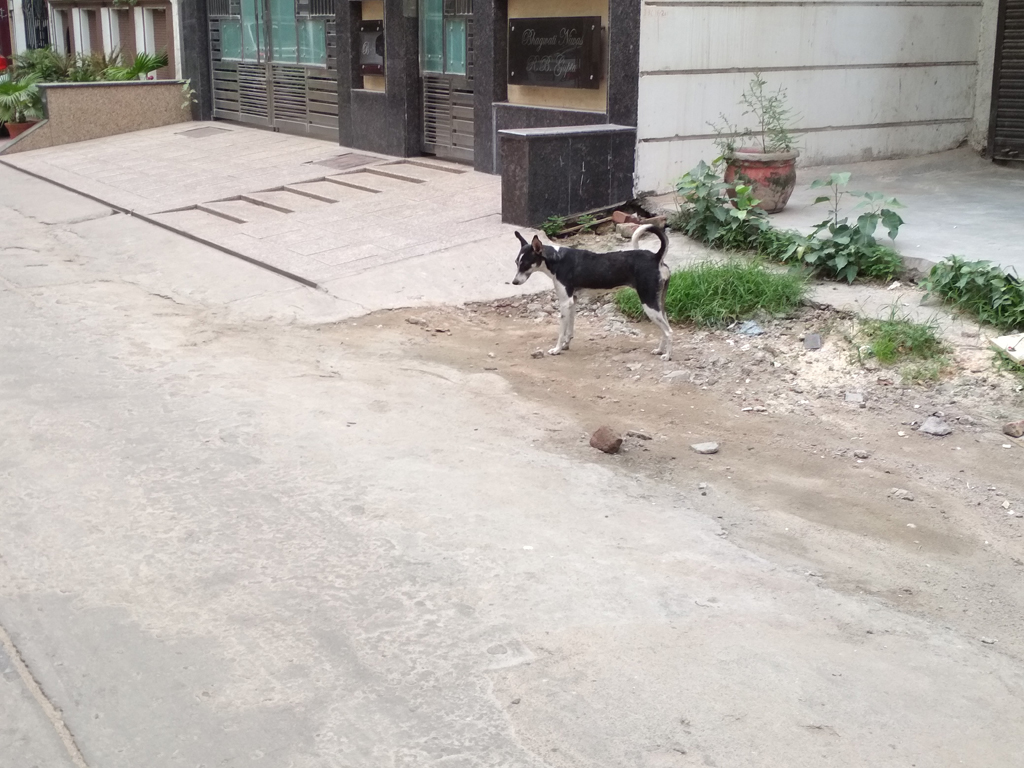dog: (512, 221, 675, 363)
